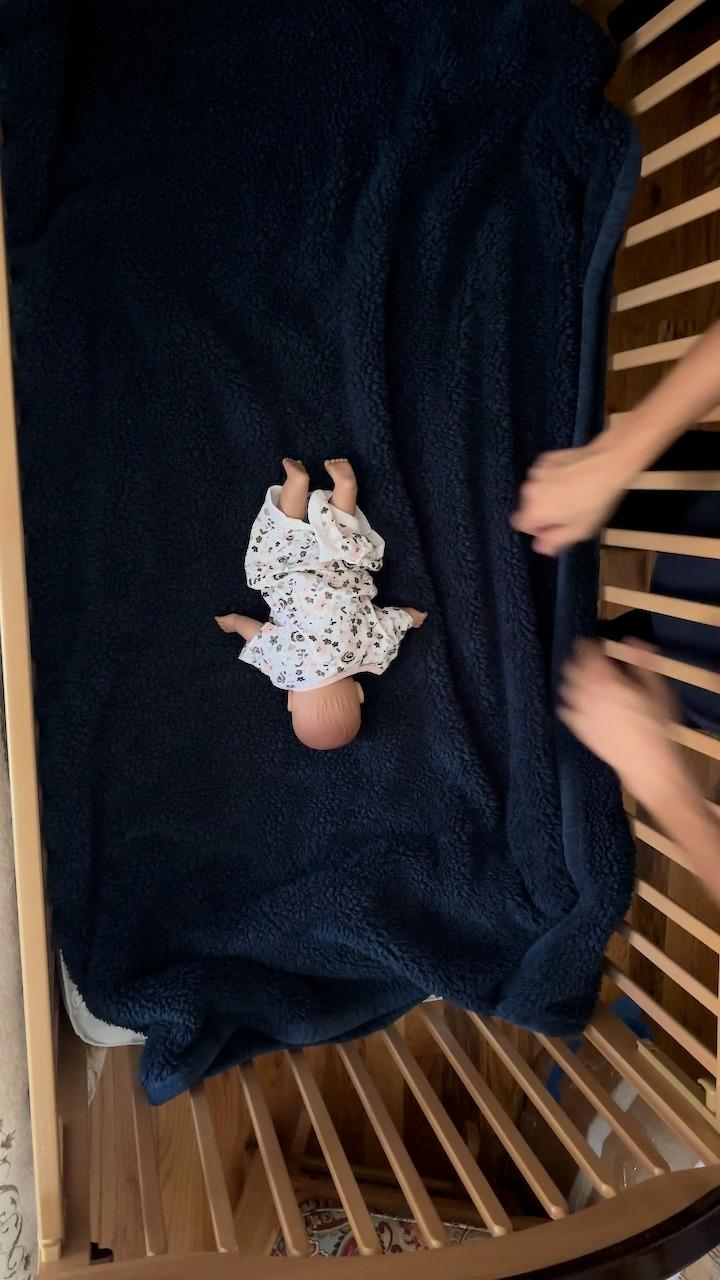baby: (220, 450, 429, 752)
